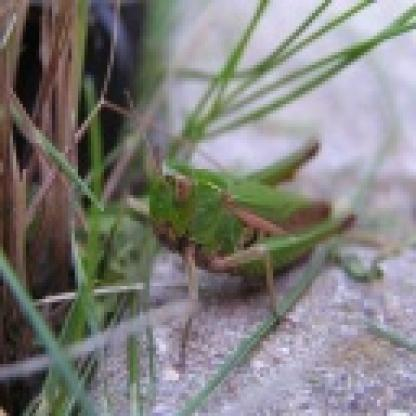grasshopper: (148, 132, 348, 326)
